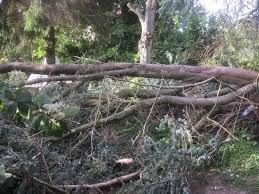Downstairs: (1, 59, 259, 151)
